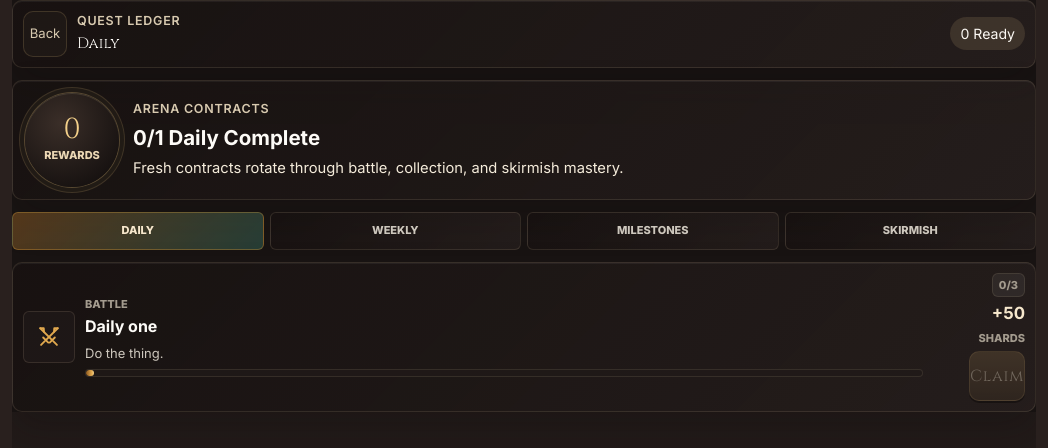
Test: QuestLedgerPanel › shows only the active cadence, and switches on tab press
This screenshot has width=1048, height=448.
Expected: the text "Daily one" is shown, [85,316,157,336]
Expected: the text "Weekly one" is not shown
What coordinates should you click on to do the following:
click the button "Weekly"
I would click on:
 (395, 231)
Its box is [270,212,521,250].
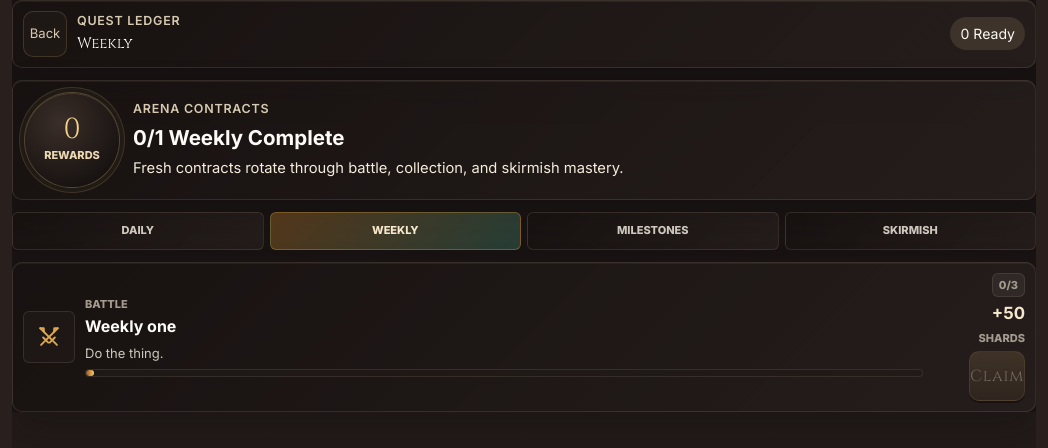
Result: the text "Weekly one" is shown at [85,316,176,336]
Result: the text "Daily one" is gone
